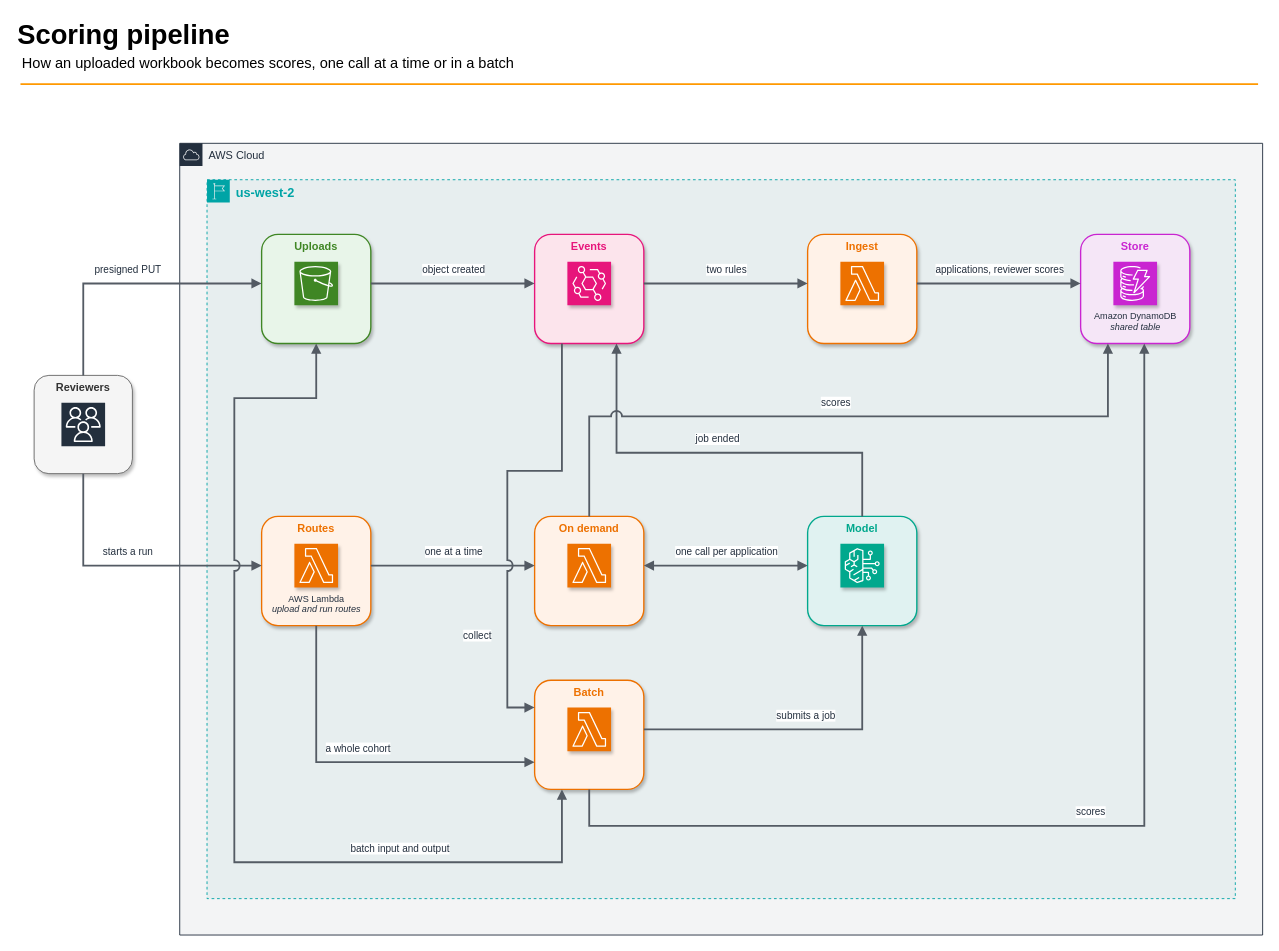
This 1279x951 diagram has some shape labels left out. The centre of each missing label's shape, as x and y in pixels:
"Amazon Bedrock Claude Sonnet 4.6" goes at [863,566].
"Amazon EventBridge event rules" goes at [590,284].
"Amazon S3 exports, batch files" goes at [317,284].
"AWS Lambda batch scorer" goes at [590,730].
"AWS Lambda ingest workers" goes at [863,284].
"AWS Lambda on-demand scorer" goes at [590,566].
